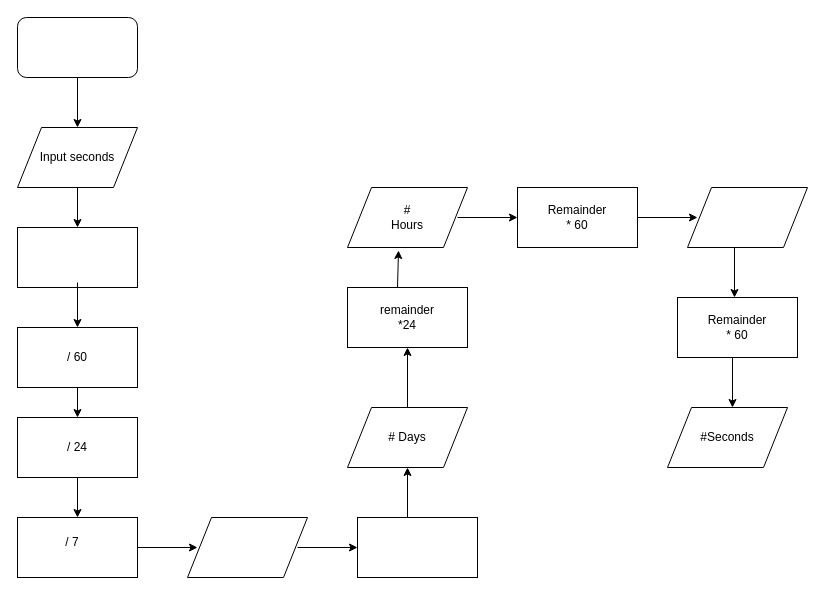
Image size: 825x595. Some labels were removed from this diagram. The shapes that lost their labels are listed below. From the top down, each one's box as (x1, y1, x2, y2) in pixels, then its label:
(16, 16, 138, 78): Beginn
(686, 186, 808, 248): # Minutes
(16, 226, 138, 288): input / 60
(186, 516, 308, 578): # weeks
(356, 516, 478, 578): Remainder *7
